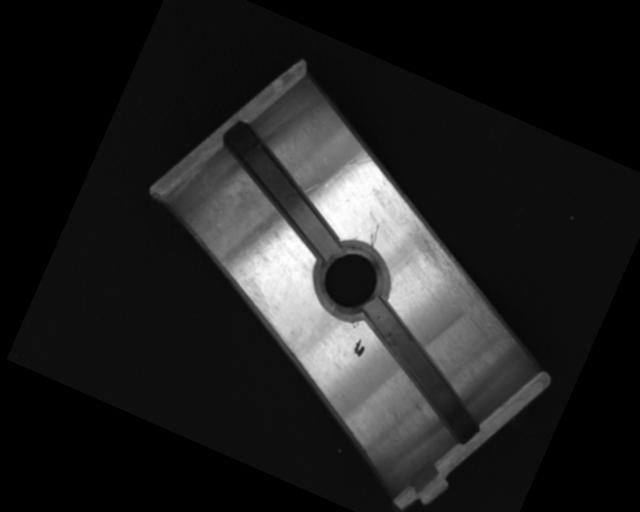blot: (350, 338, 368, 359)
gap: (333, 297, 510, 447), (195, 119, 367, 261)
hole: (301, 230, 401, 330)
nick: (322, 143, 373, 202), (366, 223, 382, 247)
scratch: (382, 215, 542, 342)
